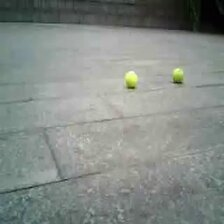tennis: (125, 71, 137, 87), (172, 68, 184, 81)
